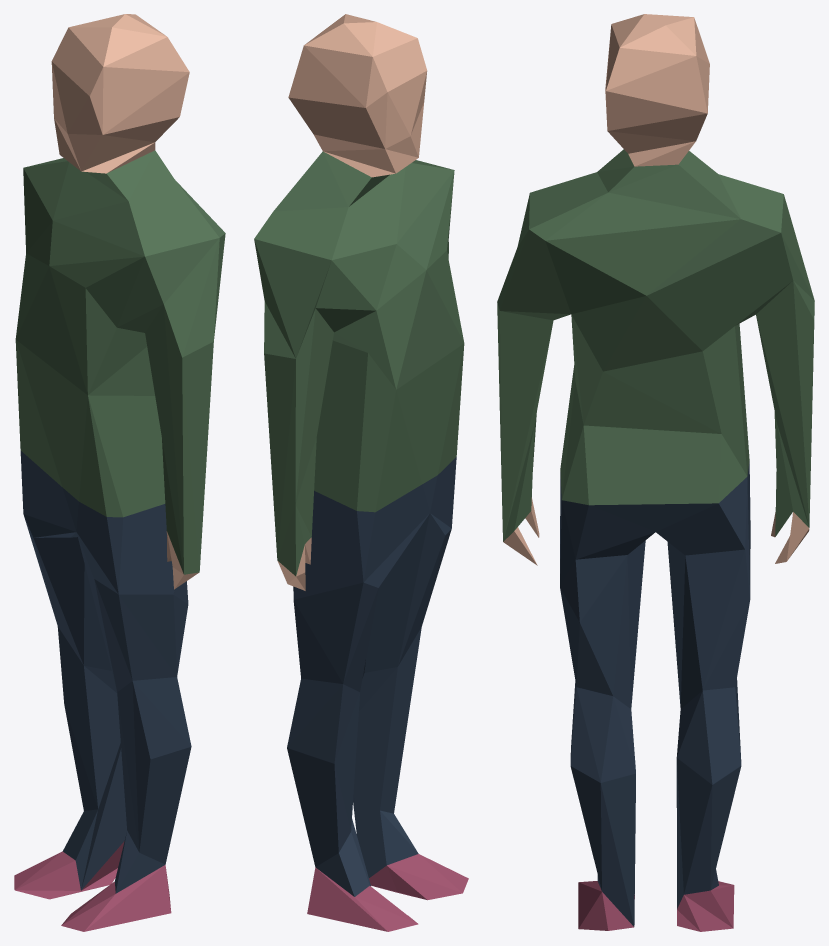
Rendered from man.fbx.
3 renders of one model, left to right at view 1: azimuth 30°, elevation 25°; view 2: azimuth 150°, elevation 25°; view 3: azimuth 270°, elevation 25°, orthographic. The views are drawn at different scales.
Parts seen in each view (by area): view 1: Man; view 2: Man; view 3: Man.
Part boxes in pixels (box(x1,y1,x2,y2)): Man: box(14, 14, 225, 931); Man: box(254, 14, 468, 931); Man: box(497, 14, 814, 931).
Bounding box in the file's own units: 92.35 × 545 × 173.
